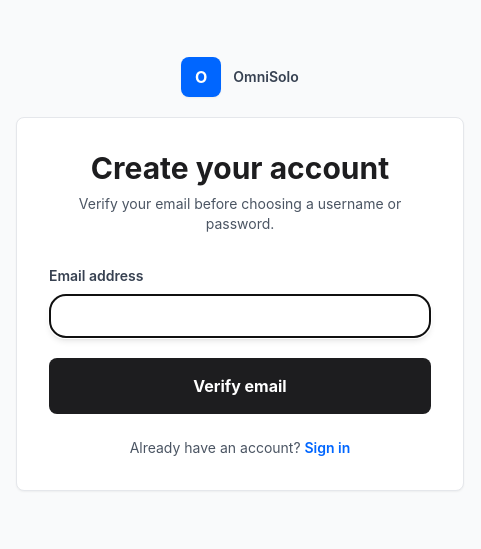
it: registration entry › does not store or navigate after a rejected or malformed challenge 0
In the field labelled "Email address": x=240, y=316 [49,294,431,338], type "Alice@example.test"
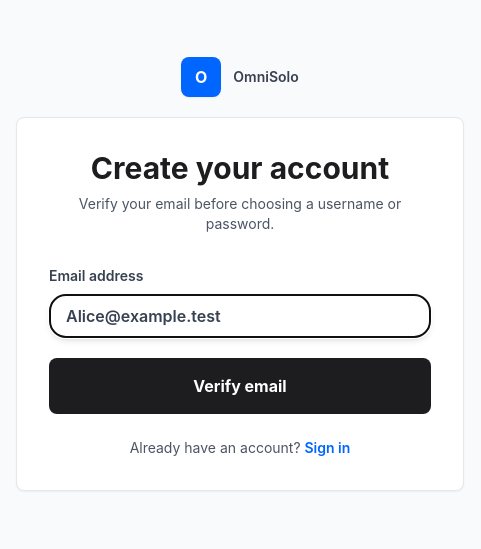
Click the button "Verify email": x=240, y=386 [49,358,431,414]
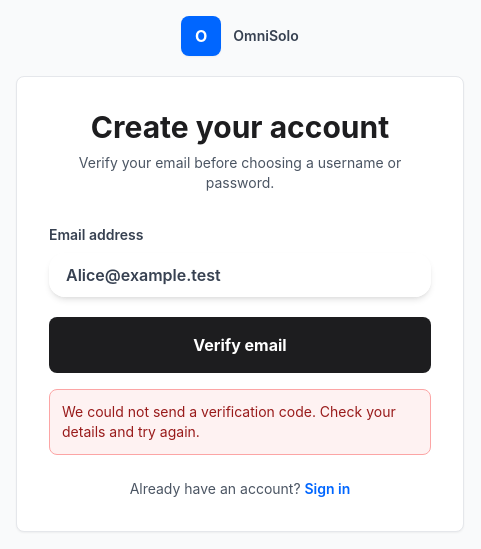
Expected: the message shows "We could not send a verification code", [62,403,396,440]
